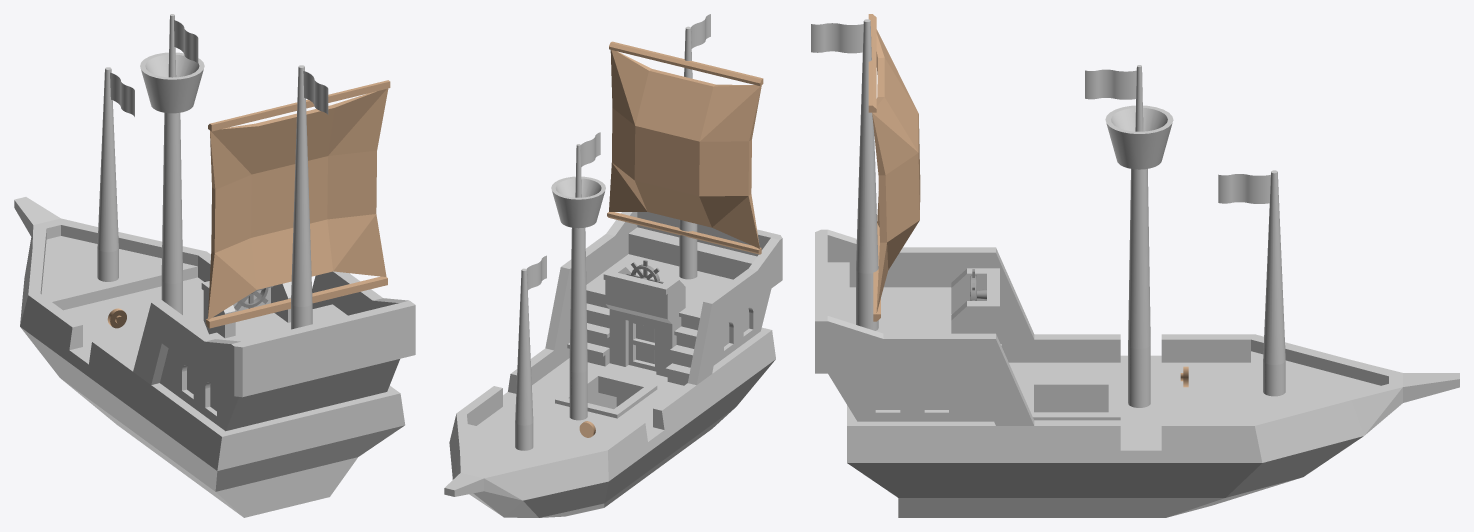
File: ship_light.glb
3 views of the same model, side by side, from view 1: azimuth 30°, elevation 25°; view 2: azimuth 150°, elevation 25°; view 3: azimuth 270°, elevation 25° (orthographic). The views are drawn at different scales.
Visible parts, largest first — view 1: ship_light, sail_back 1; view 2: ship_light, sail_back 1, steering 1; view 3: ship_light, sail_back 1.
Part boxes in pixels (box(x1,y1,x2,y2)): ship_light: box(14, 14, 415, 517); sail_back 1: box(206, 80, 390, 328); ship_light: box(444, 14, 782, 517); sail_back 1: box(607, 41, 763, 254); steering 1: box(626, 260, 663, 283); ship_light: box(811, 19, 1459, 517); sail_back 1: box(868, 14, 920, 321).
Size of what is drawn, in the model's own units: 28.5 by 65.46 by 80.98.
